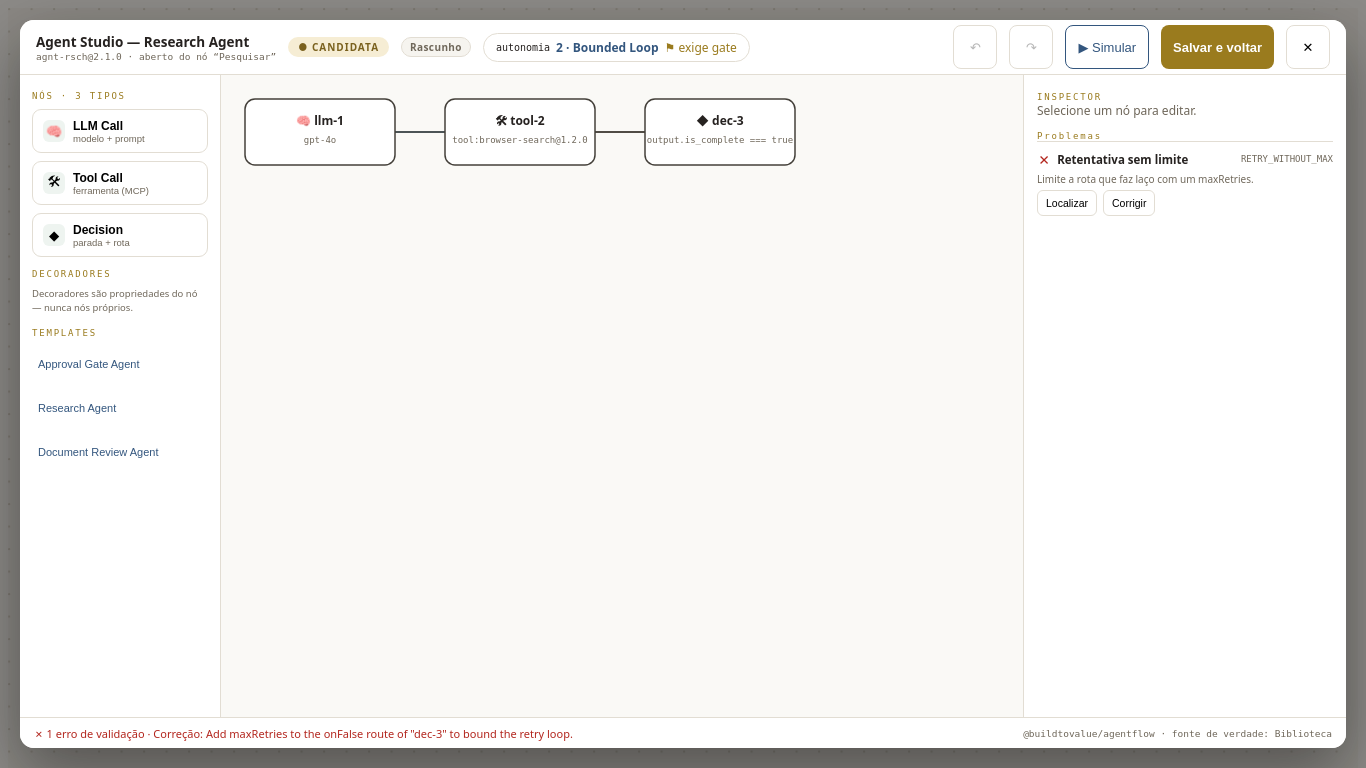
AgentStudio Problems Panel (Squad Lane SL-6) › Locate selects the problem node (no scrollIntoView)
The width and height of the screenshot is (1366, 768).
Click the button "Localizar".
click(1067, 203)  # box [1037,190,1097,216]
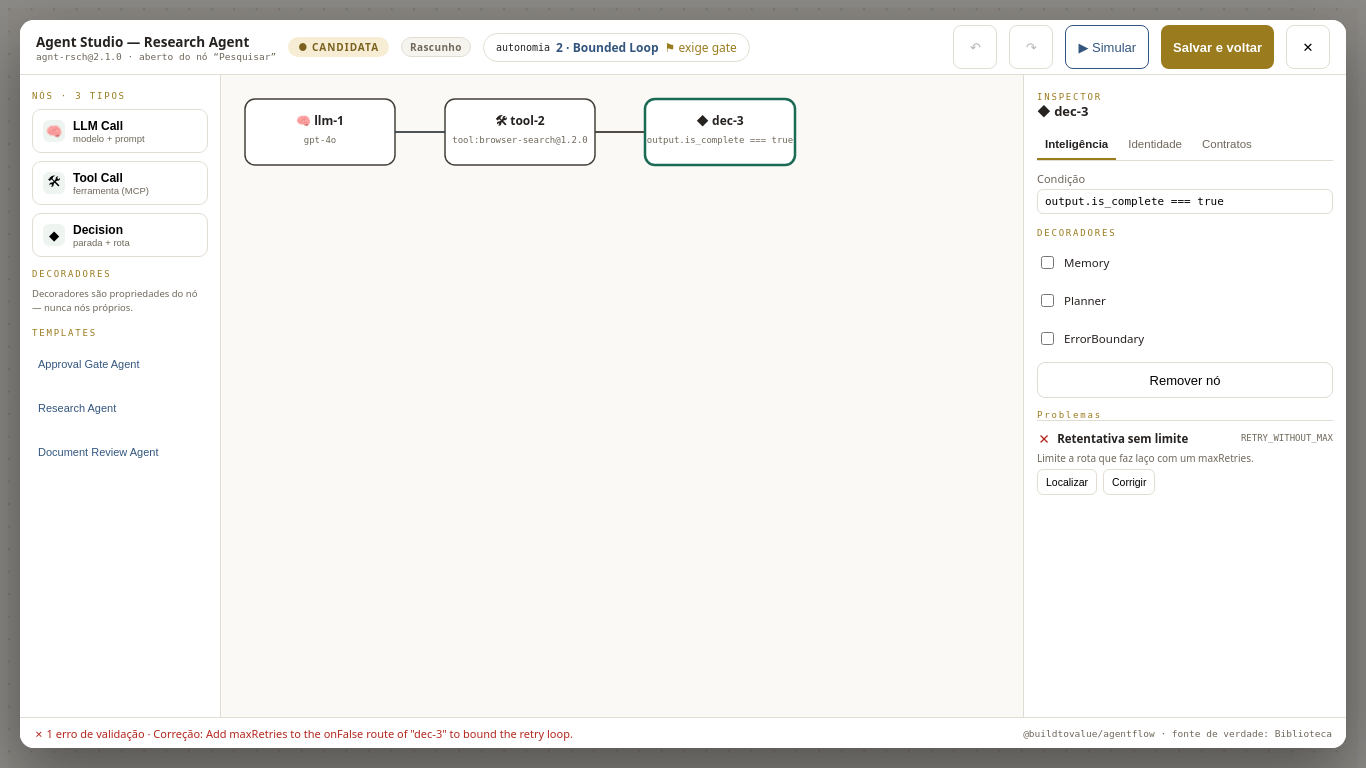
Expected: the text "◆ dec-3" is shown, [1037,102,1088,120]
